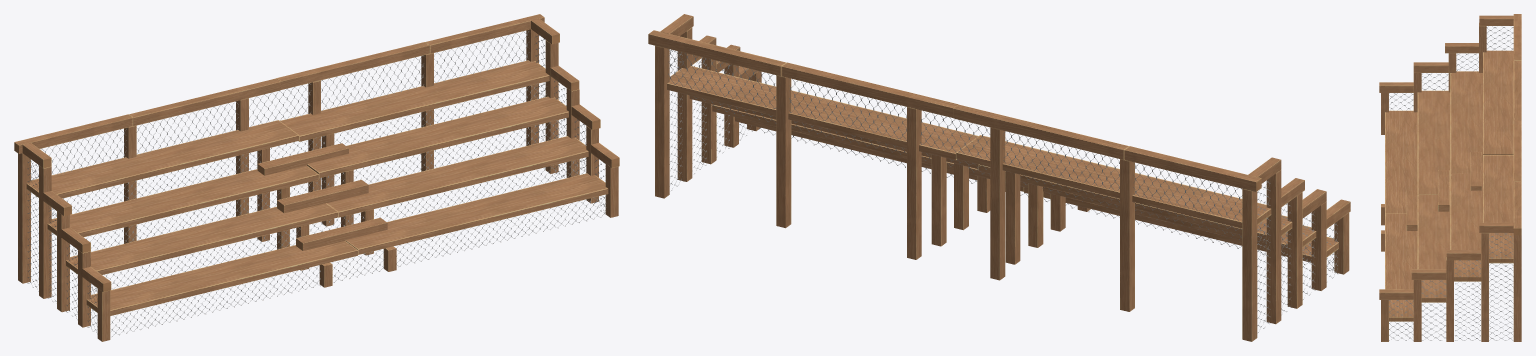
The model's file is Tribune_Wire.fbx.
3 renders of one model, left to right at view 1: azimuth 30°, elevation 25°; view 2: azimuth 150°, elevation 25°; view 3: azimuth 270°, elevation 25°, orthographic. The views are drawn at different scales.
Parts seen in each view (by area): view 1: pCube59; view 2: pCube59; view 3: pCube59.
Boxes of the visible parts, x1,y1,x2,y2 form: pCube59: (14, 14, 619, 341); pCube59: (648, 14, 1350, 341); pCube59: (1379, 14, 1521, 341).
Size of the model in its own units: 23.3 by 5.93 by 6.54.
